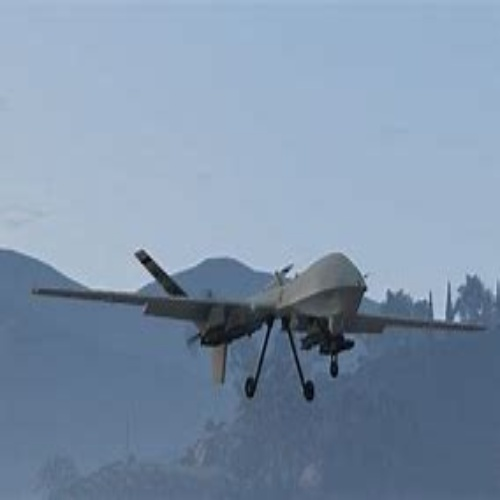uav: (28, 240, 488, 399)
